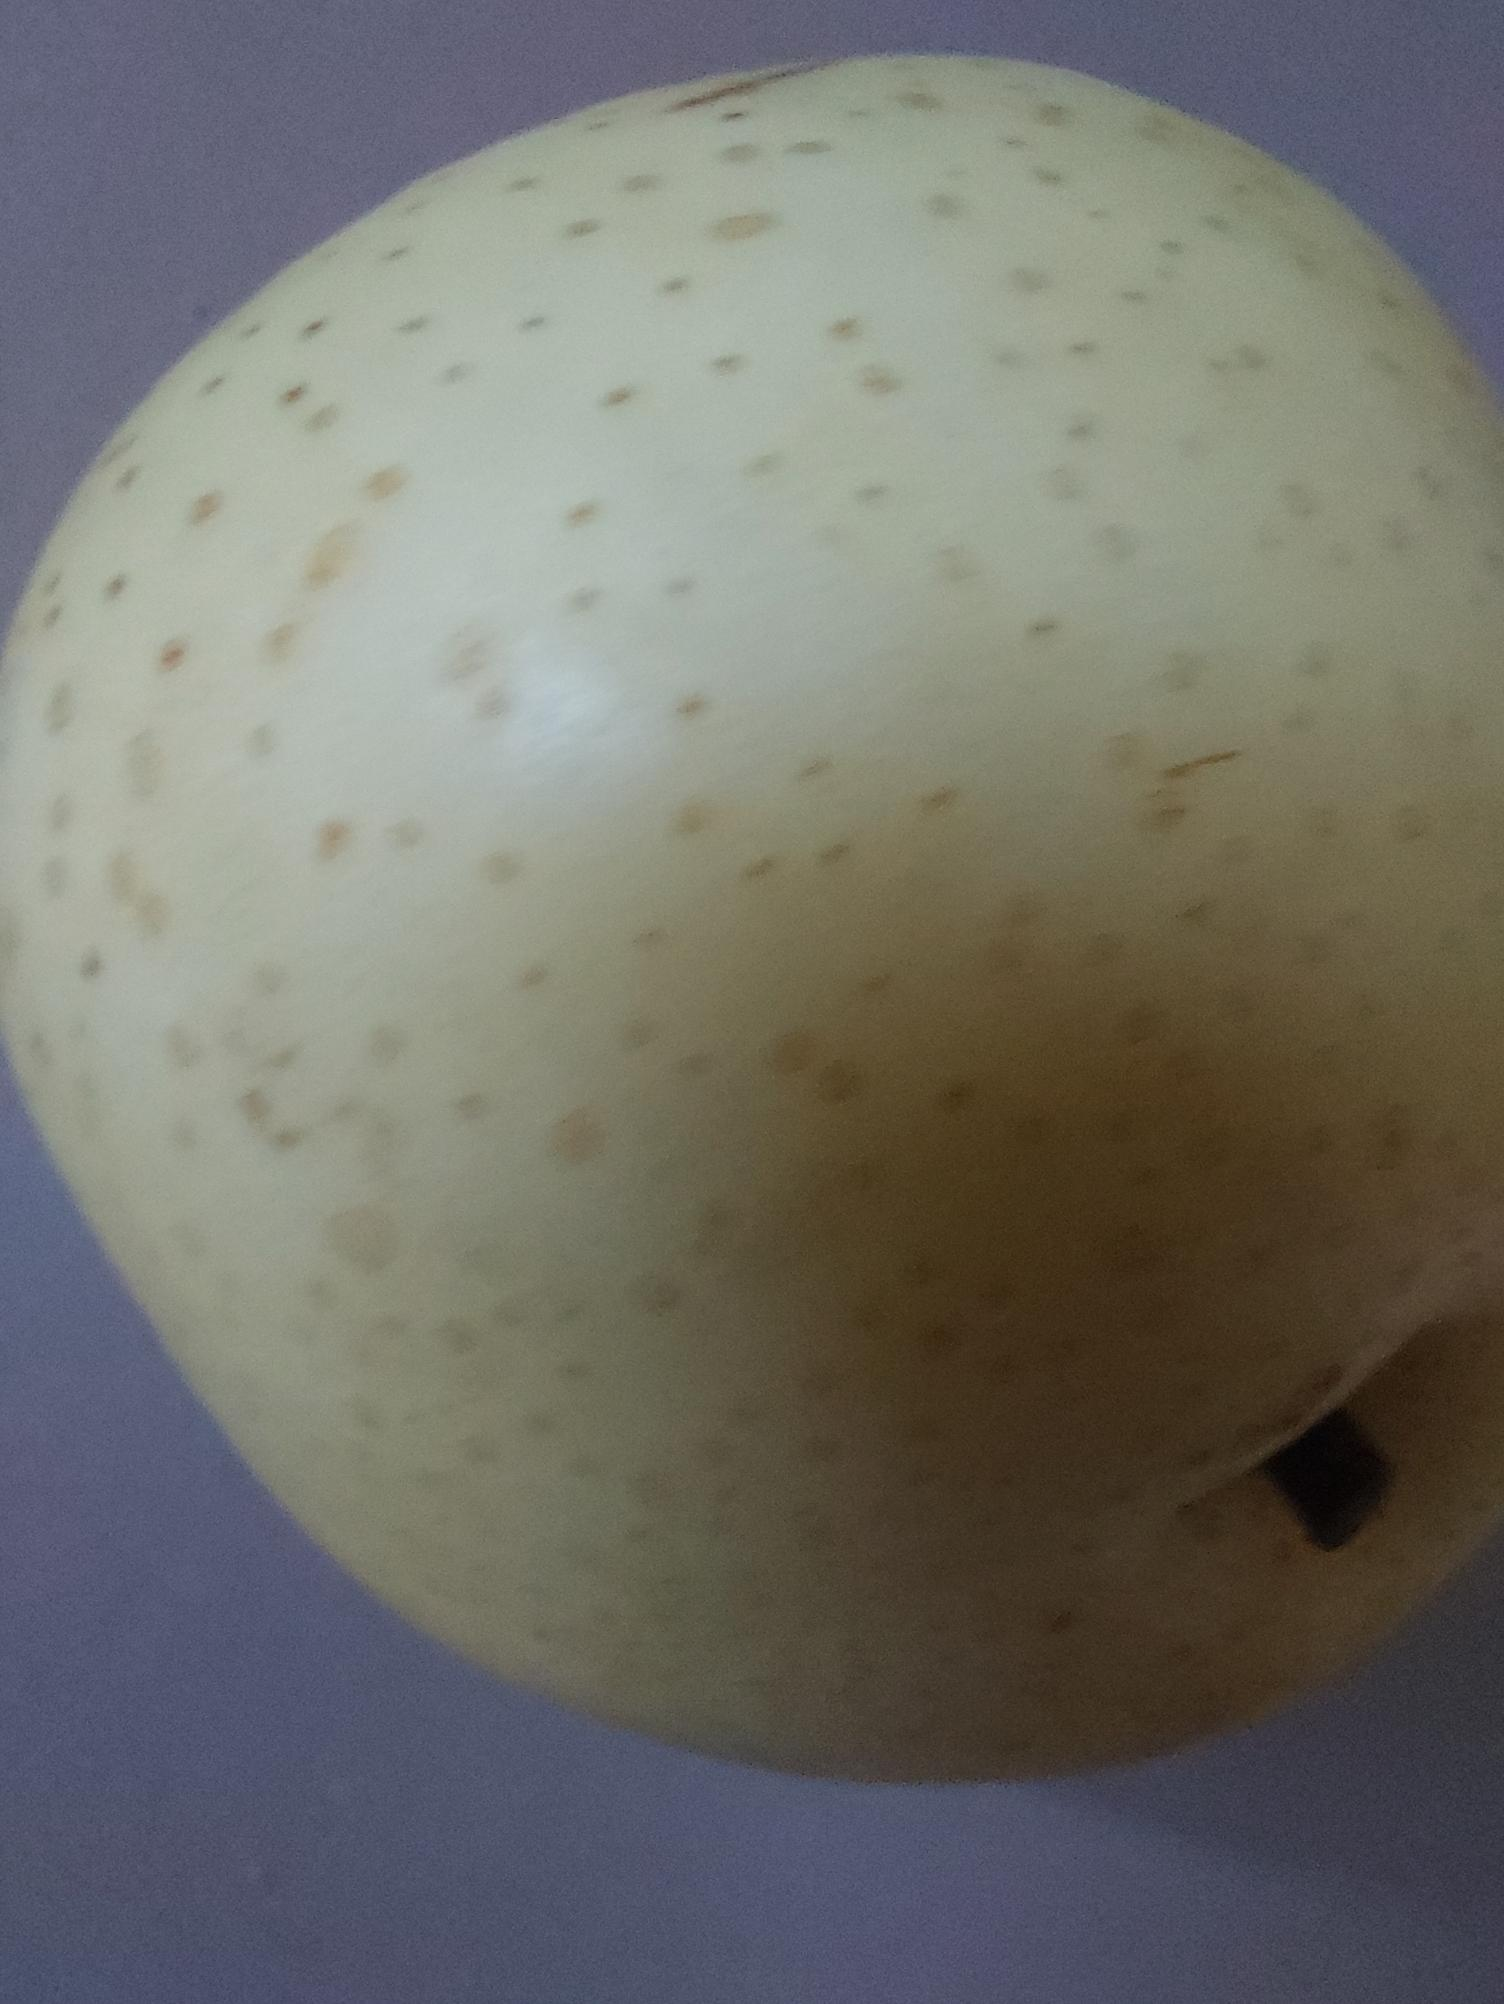Good Pear: (0, 0, 1504, 1848)
